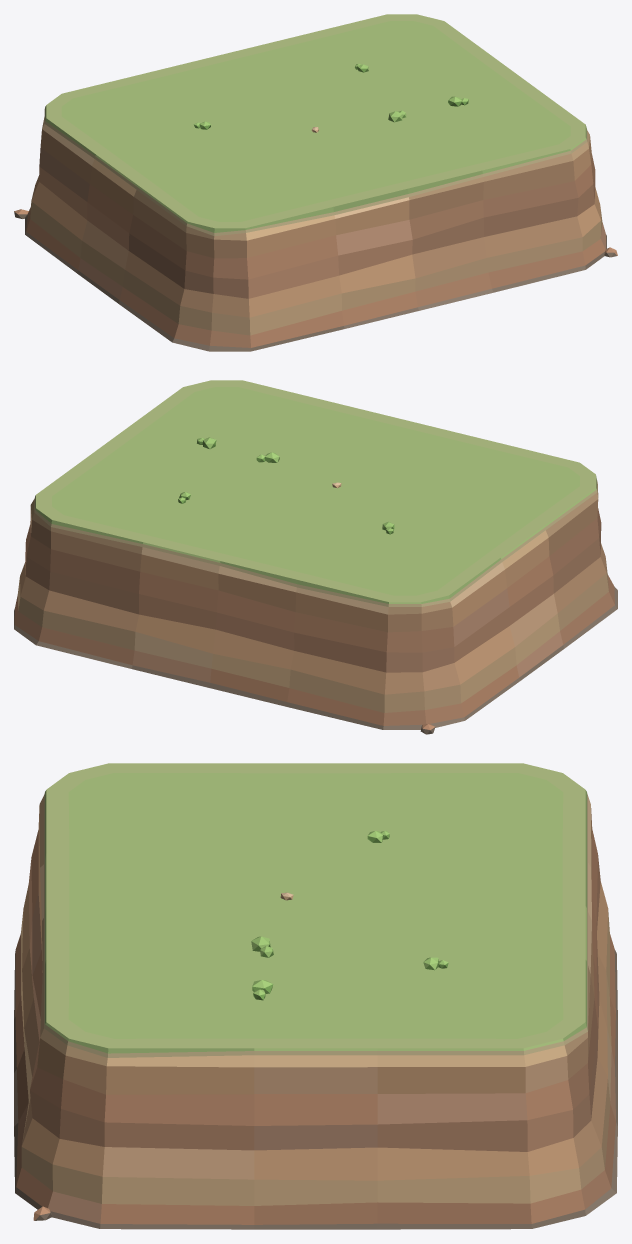
The model's file is mesa-a.glb.
3 renders of one model, top to bottom at view 1: azimuth 30°, elevation 25°; view 2: azimuth 150°, elevation 25°; view 3: azimuth 270°, elevation 25°, orthographic. The views are drawn at different scales.
Visible parts, largest first — view 1: mesa-a; view 2: mesa-a; view 3: mesa-a.
Boxes of the visible parts, x1,y1,x2,y2 form: mesa-a: [14, 14, 617, 351]; mesa-a: [14, 380, 617, 734]; mesa-a: [14, 763, 617, 1229].
Bounding box in the file's own units: 192 × 51.8 × 157.
